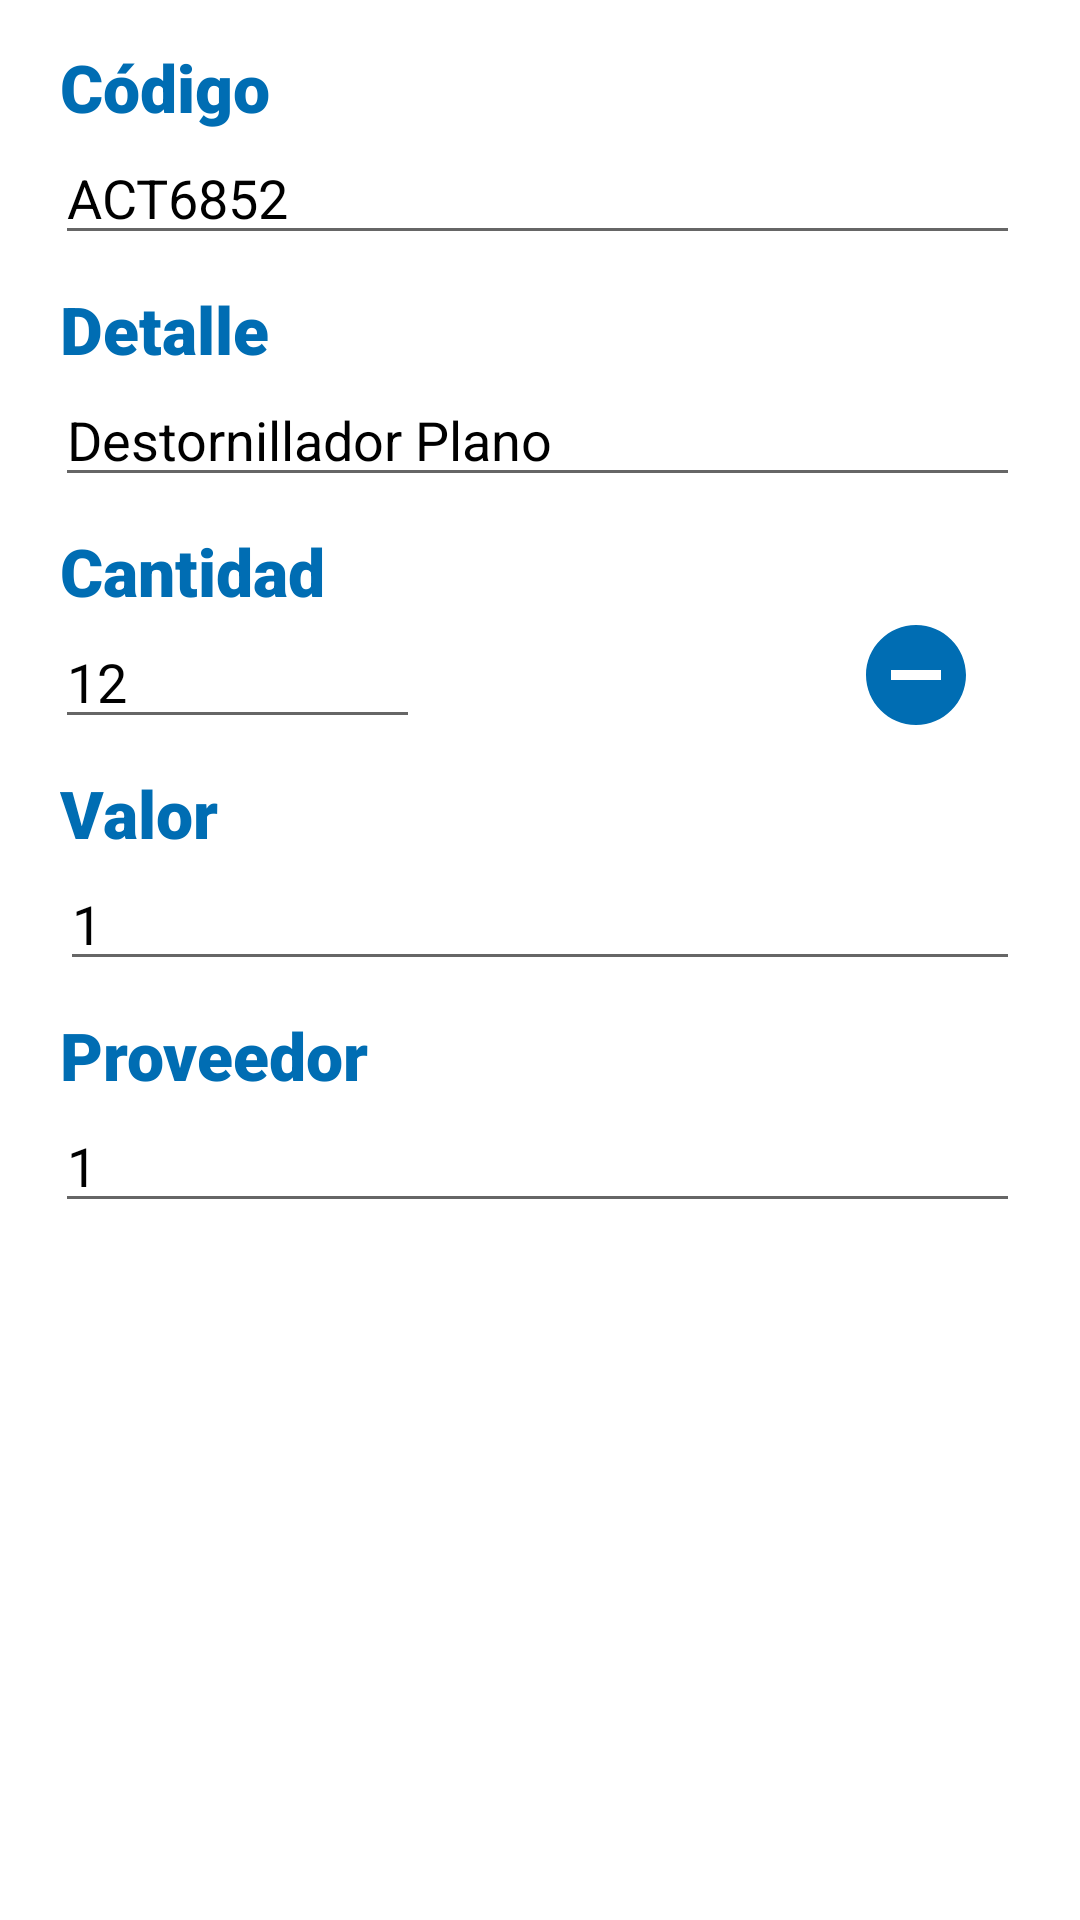

Where to tap for icons on this 1080×1920 app screen, as (x,y):
remove circle: (916,675)
